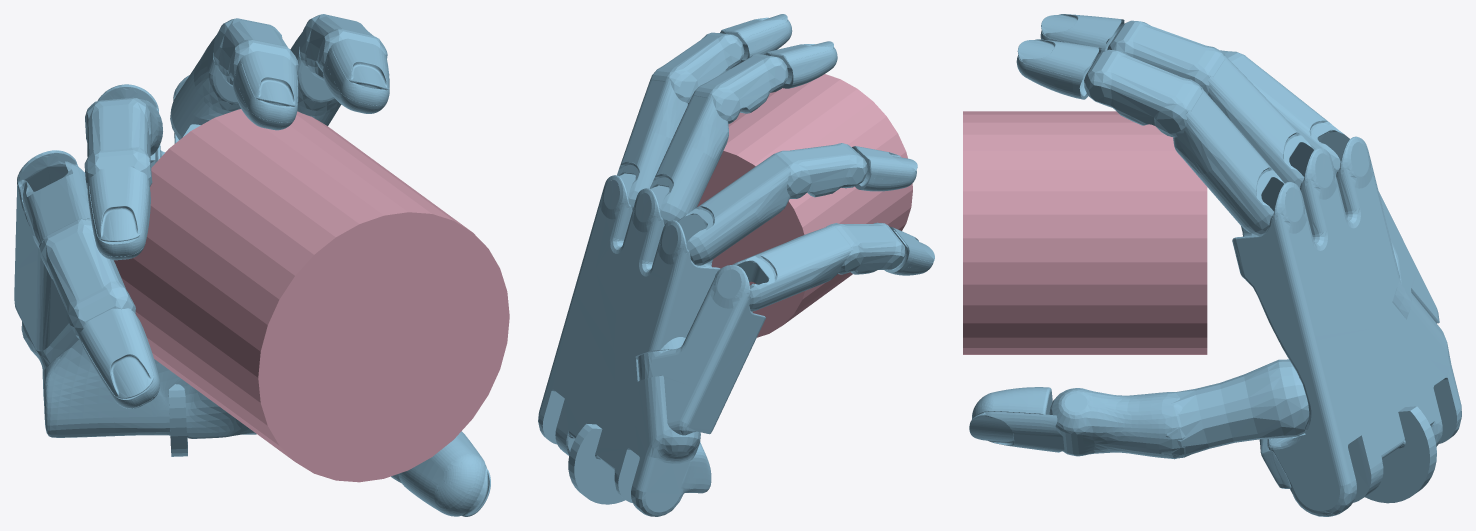
The picture shows the model from 3 angles, left to right: view 1: azimuth 30°, elevation 25°; view 2: azimuth 150°, elevation 25°; view 3: azimuth 270°, elevation 25°; orthographic projection. The views are drawn at different scales.
Visible parts, largest first — view 1: cylinder_medium.stl, world; view 2: world, cylinder_medium.stl; view 3: world, cylinder_medium.stl.
Part boxes in pixels (<box>): cylinder_medium.stl: <box>114,109,509,482</box>; world: <box>14,14,490,516</box>; world: <box>538,14,934,516</box>; cylinder_medium.stl: <box>697,74,912,337</box>; world: <box>969,14,1461,516</box>; cylinder_medium.stl: <box>963,111,1207,354</box>.
Size of the model in its own units: 0.1221 by 0.1625 by 0.1635.
